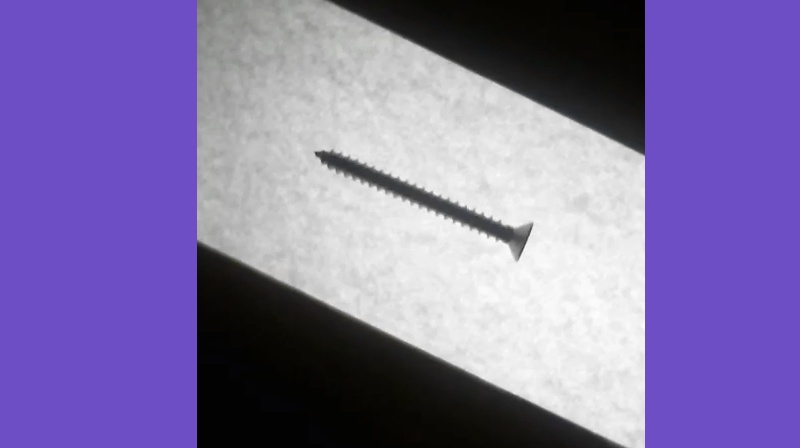S002: (311, 146, 536, 266)
